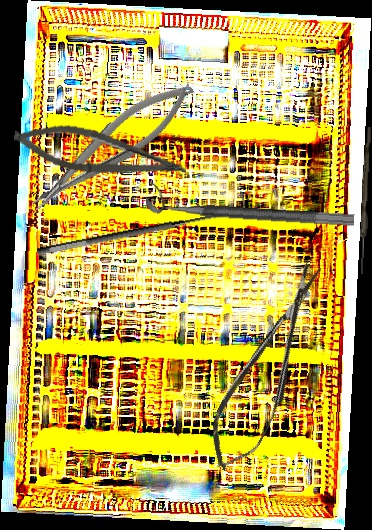Fixation Ring: (145, 181, 356, 228)
Hook Surgical: (33, 190, 248, 260)
Micro Scissor: (194, 255, 344, 480), (10, 117, 191, 187)
Needle Holder: (18, 71, 205, 220)
Surgical Spoon: (358, 126, 372, 275)
